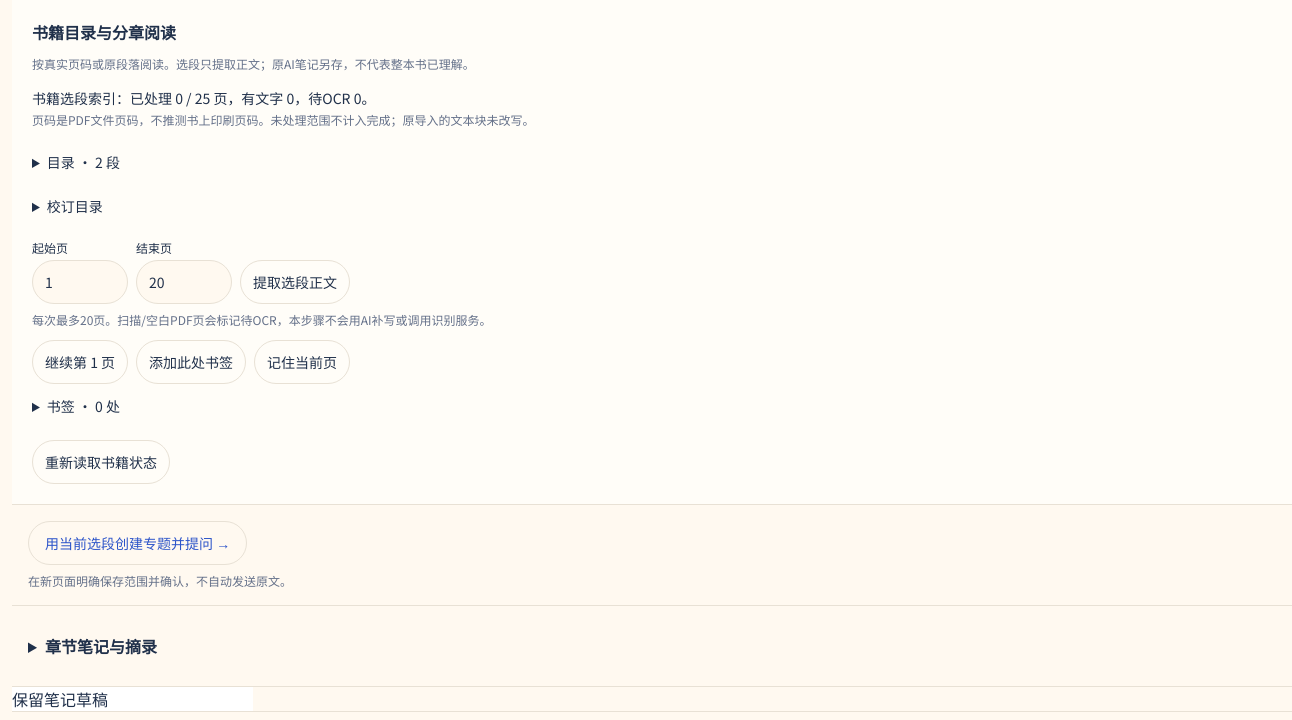
Test: blocks oversized ranges before sending and never manufactures processed counts
Expected: the text "书籍选段索引：已处理 0 / 25 页，有文字 0，待OCR 0。" is shown, [32,88,375,108]
Replace the text in the number field named "提取结束页" with "25" at (184, 282), box [136,260,232,304]
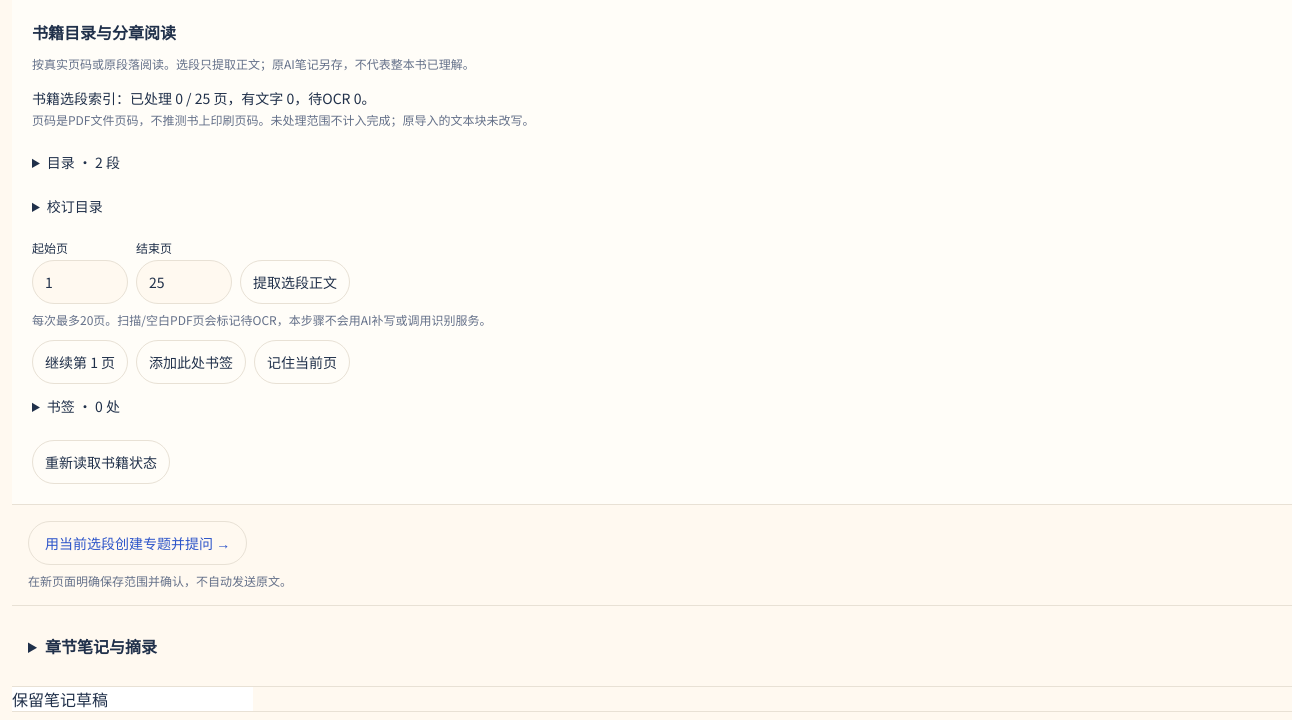
Click the button "提取选段正文".
click(295, 282)  # box [240,260,350,304]
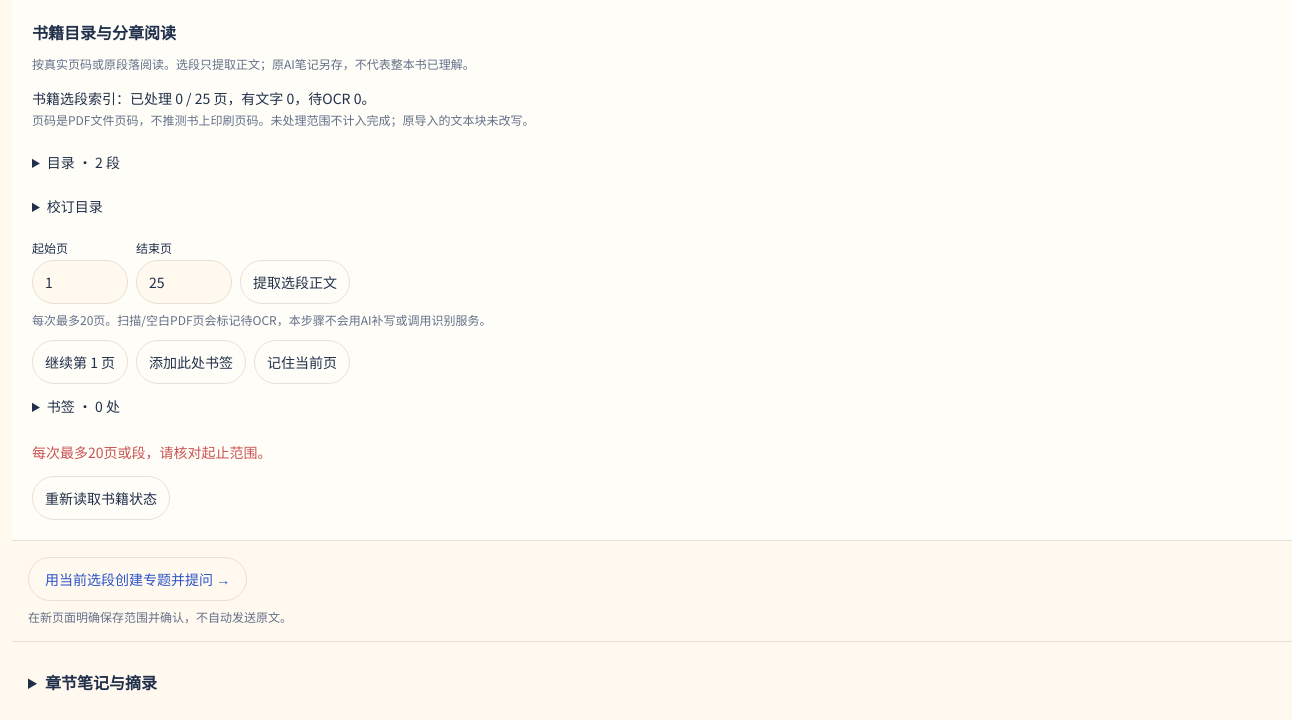
Expected: the text "书籍选段索引：已处理 0 / 25 页，有文字 0，待OCR 0。" is shown, [32,88,375,108]
Now the message "每次最多20页或段，请核对起止范围。" is shown, box [32,442,272,462]
